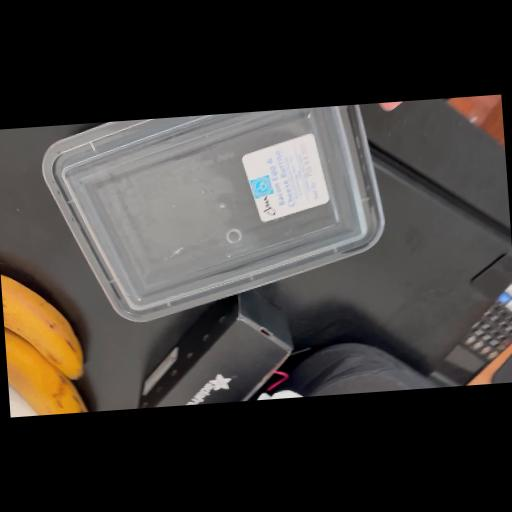rigid_plastic_container: (34, 104, 394, 330)
